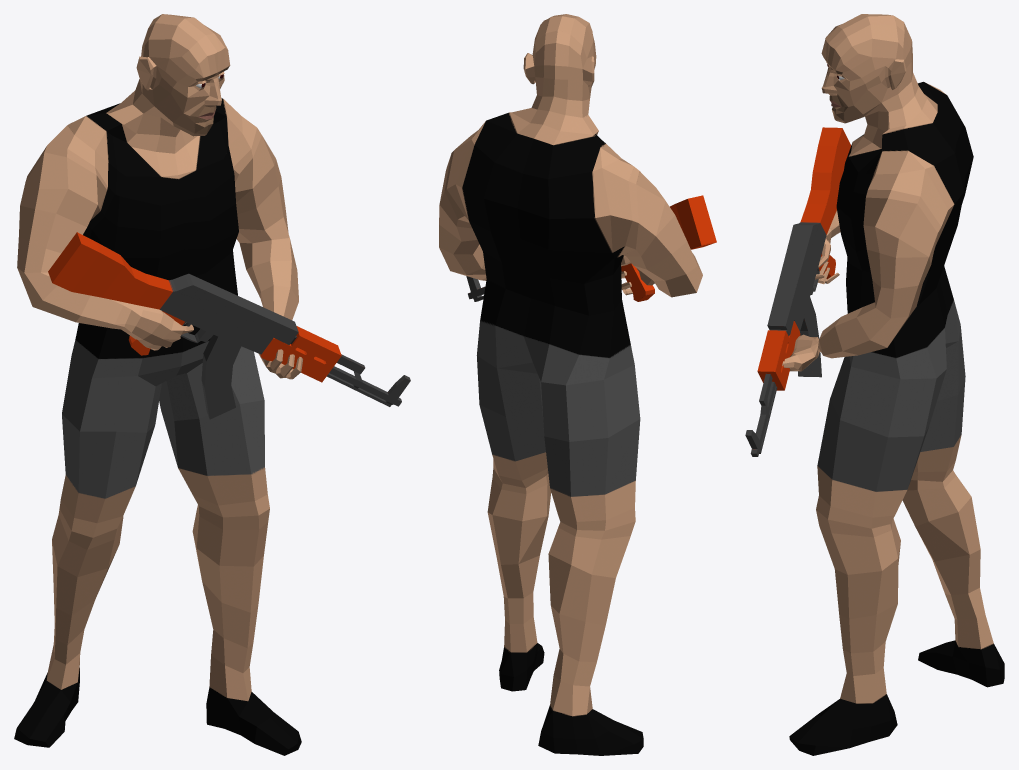
File: PlayerIdle(110).obj
The picture shows the model from 3 angles, left to right: view 1: azimuth 30°, elevation 25°; view 2: azimuth 150°, elevation 25°; view 3: azimuth 270°, elevation 25°; orthographic projection. The views are drawn at different scales.
Visible parts, largest first — view 1: Plane002, Object001; view 2: Plane002, Object001; view 3: Plane002, Object001.
Boxes of the visible parts, x1,y1,x2,y2 form: Plane002: (14,14,302,755); Object001: (48,232,410,419); Plane002: (439,14,702,755); Object001: (466,195,716,301); Plane002: (782,14,1004,755); Object001: (745,127,851,456).
Size of the model in its own units: 826 by 1803 by 607.
